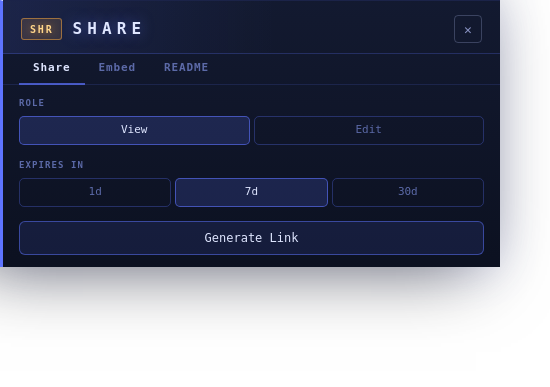
Test: ShareDialog – generate flow › surfaces the server message from a failed request
What coordinates should you click on to do the following:
click the button with class "share-generate-btn"
I would click on:
 (252, 238)
Its box is [19,220,484,254].
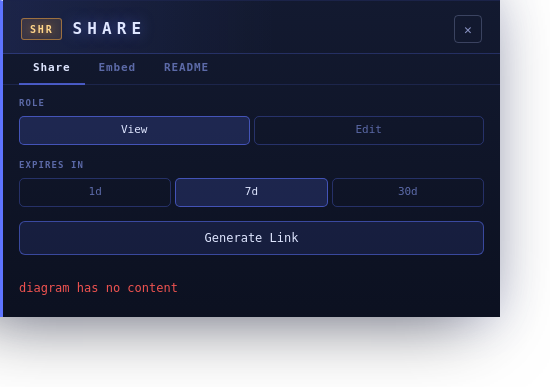
Expected: the text "diagram has no content" is shown, [19,280,178,294]
